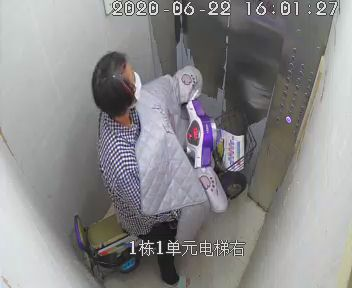Electric-bicycle: (74, 82, 257, 278)
